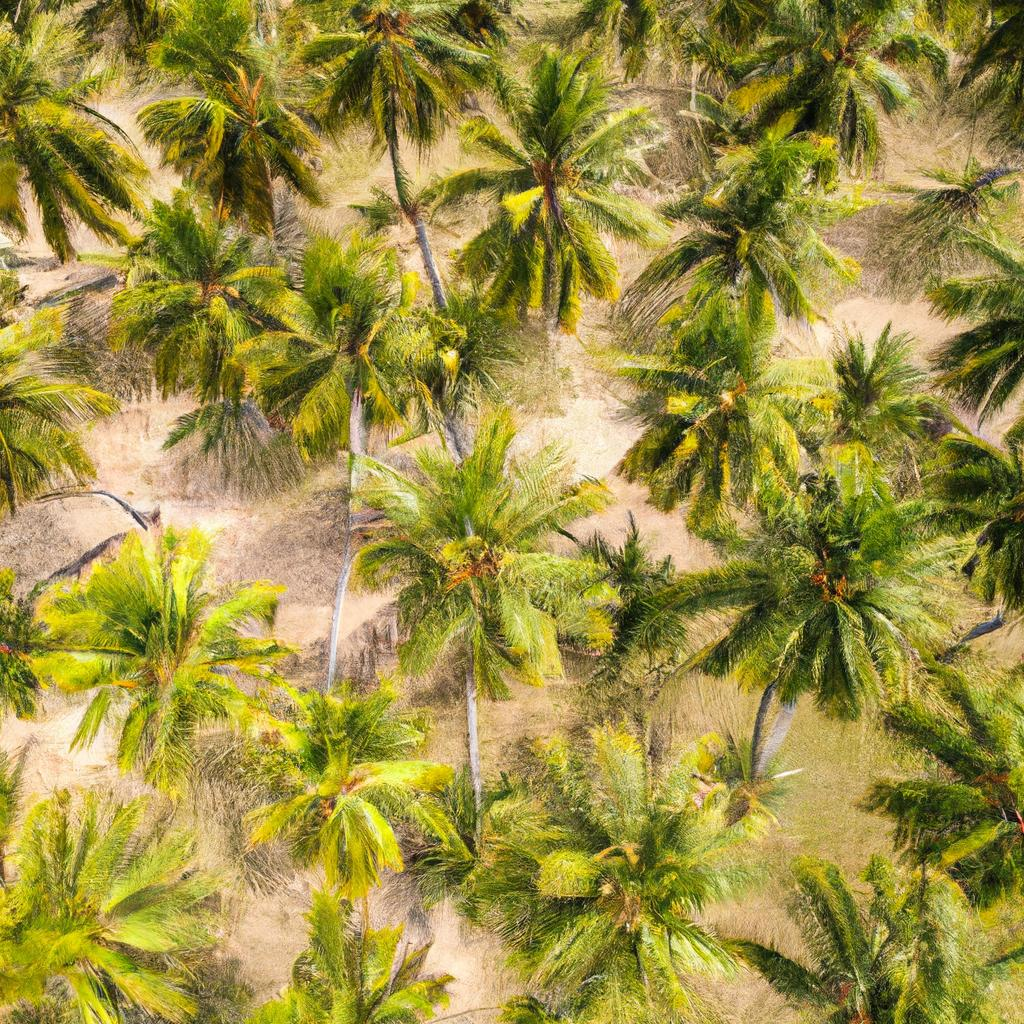coconut_tree: (342, 405, 629, 712), (11, 493, 292, 783), (437, 42, 705, 328), (688, 450, 939, 740), (231, 220, 456, 429)
